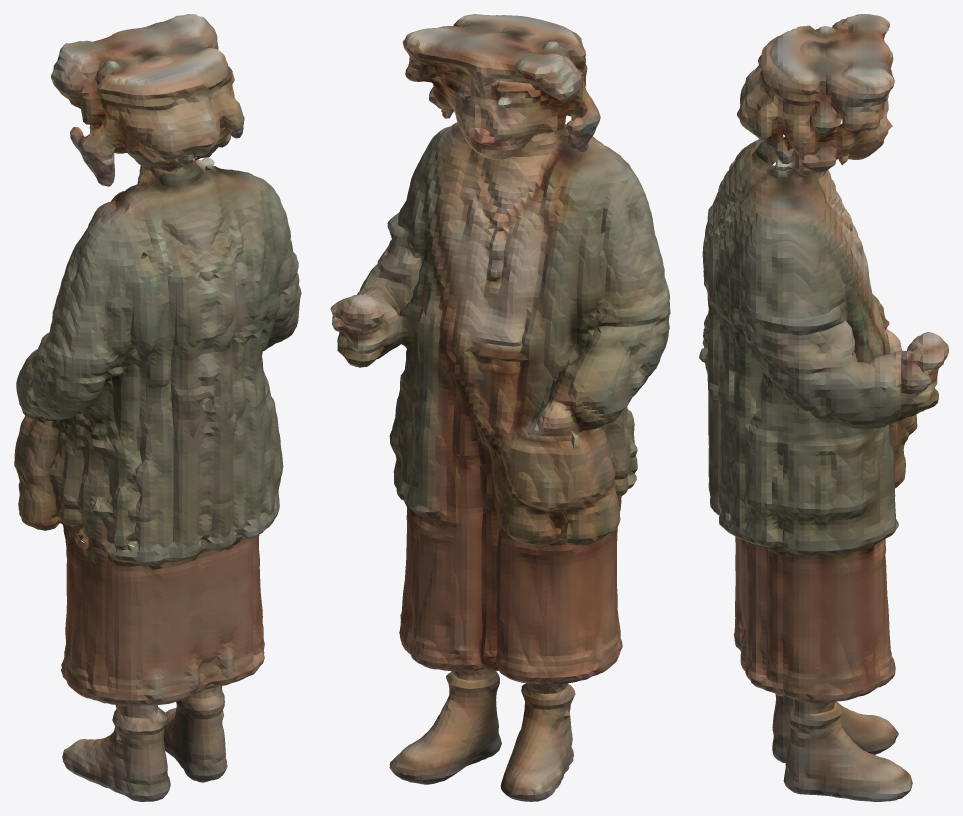
The model's file is guest-v6.glb.
3 renders of one model, left to right at view 1: azimuth 30°, elevation 25°; view 2: azimuth 150°, elevation 25°; view 3: azimuth 270°, elevation 25°, orthographic. The views are drawn at different scales.
Parts seen in each view (by area): view 1: world; view 2: world; view 3: world.
Part boxes in pixels (left/top/right/bottom): world: left=14, top=14, right=301, bottom=801; world: left=330, top=14, right=670, bottom=801; world: left=699, top=14, right=948, bottom=801.
Size of the model in its own units: 0.3881 by 1.01 by 0.3165.
